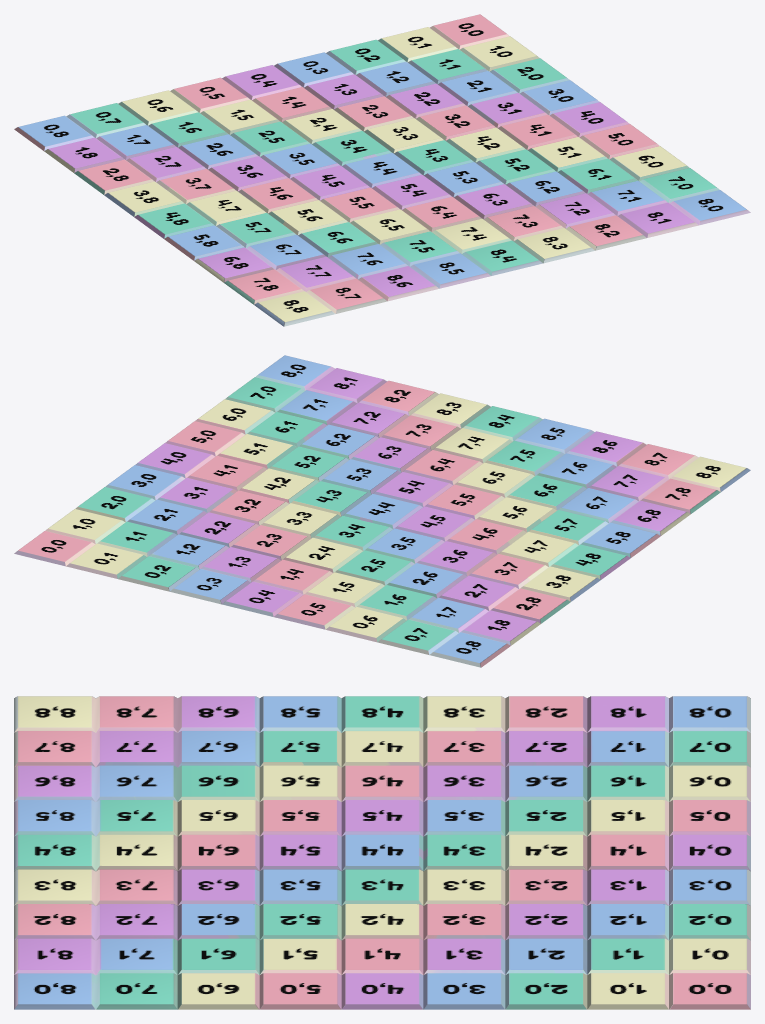
Rendered from grid_platform.fbx.
The picture shows the model from 3 angles, top to bottom: view 1: azimuth 30°, elevation 25°; view 2: azimuth 150°, elevation 25°; view 3: azimuth 270°, elevation 25°; orthographic projection. The views are drawn at different scales.
Parts seen in each view (by area): view 1: grid_platform; view 2: grid_platform; view 3: grid_platform.
Boxes of the visible parts, bbox=[...] form: grid_platform: bbox=[14, 14, 750, 326]; grid_platform: bbox=[14, 355, 750, 667]; grid_platform: bbox=[14, 696, 750, 1009].
Bounding box in the file's own units: 9 × 0.05 × 9.
1 material, 1 textured.
